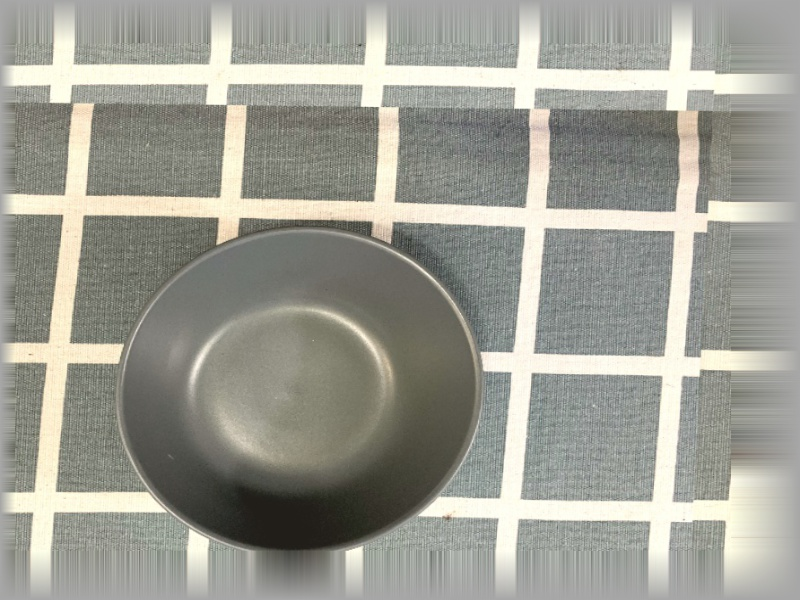bowl_big: (97, 210, 516, 565)
